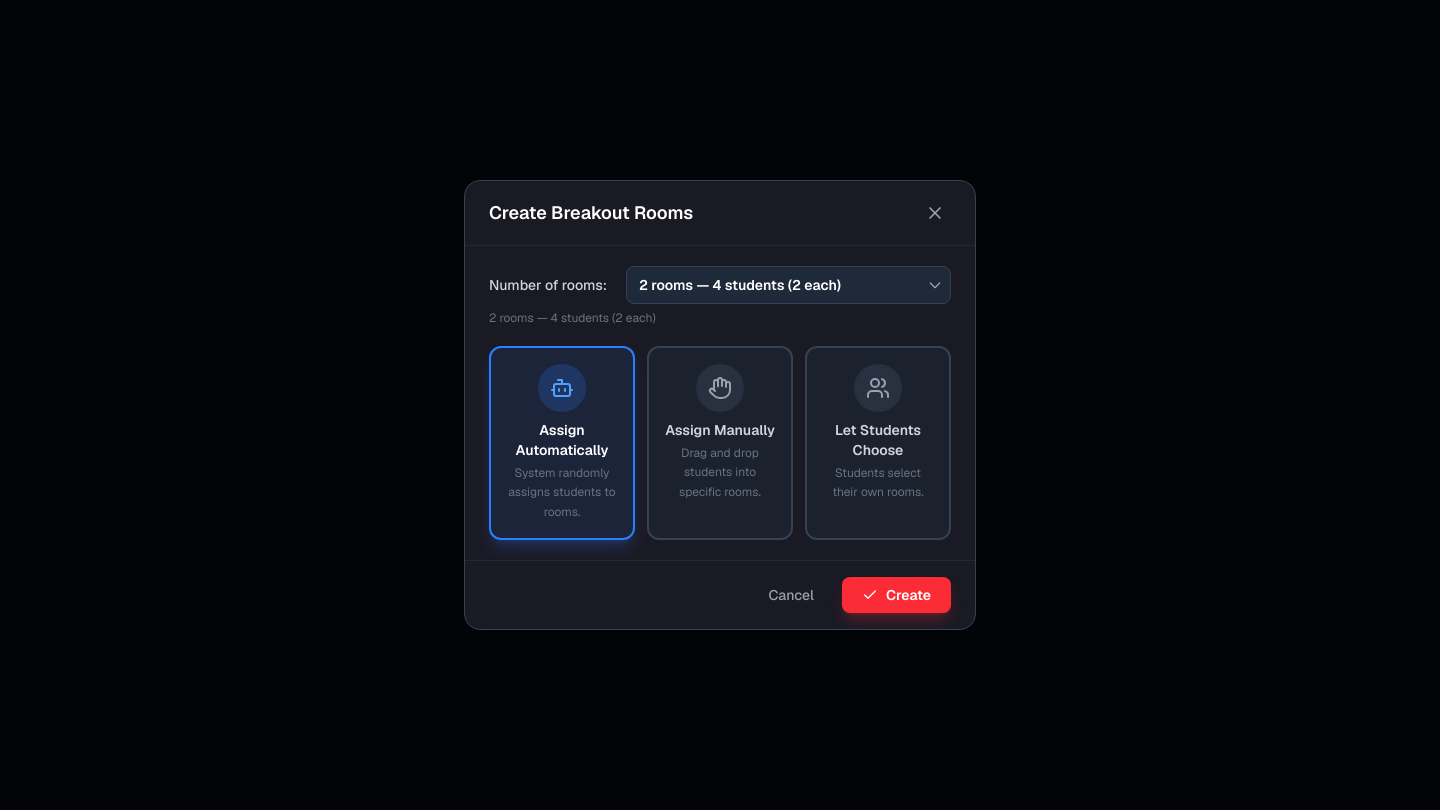
Scenario: CreateBreakoutModal — Number Dropdown (up to 25 rooms) › manual allocation mode also respects the selected dropdown count
This screenshot has width=1440, height=810.
// Select manual mode
Click the button with test id "mode-manual": (720, 443) [647,346,793,540]
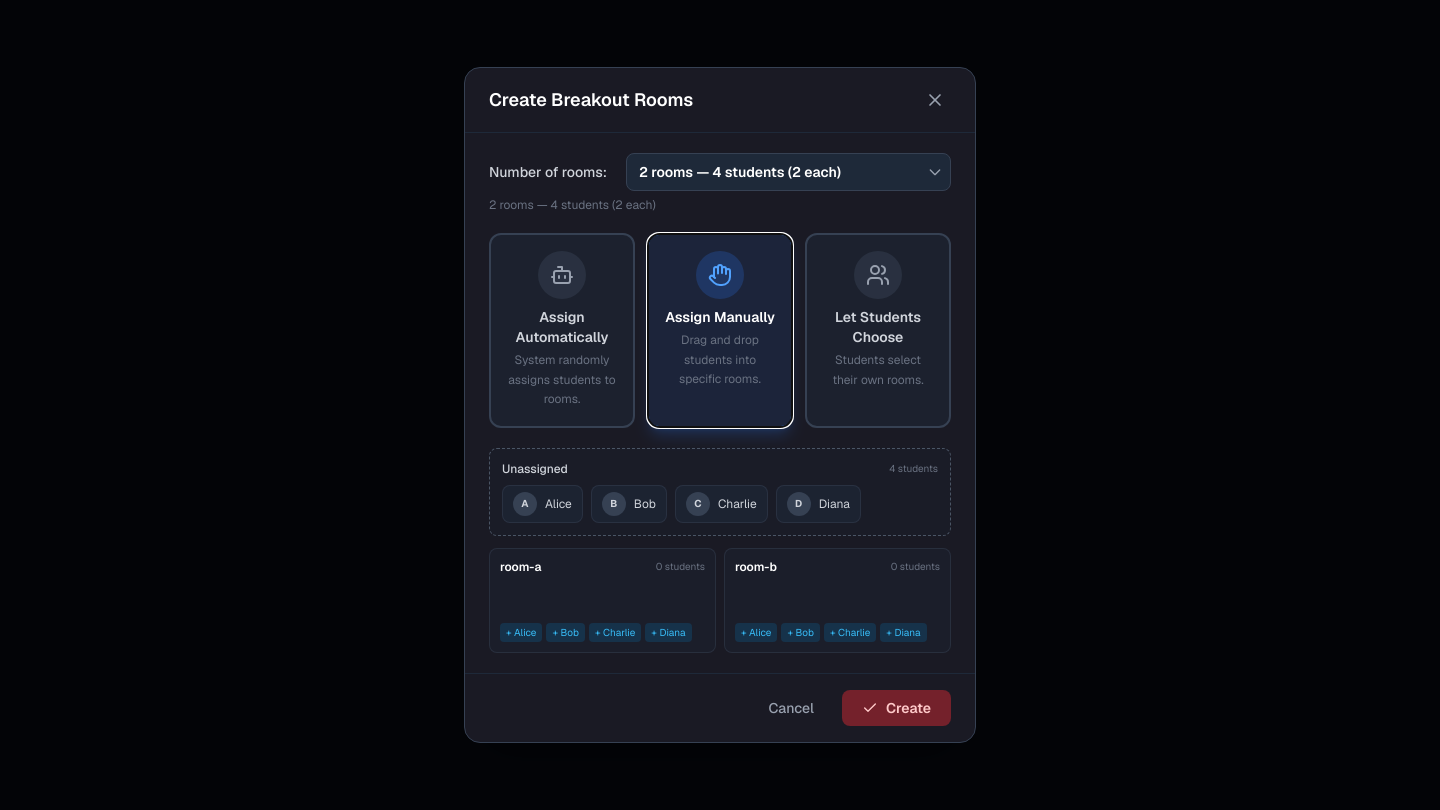
Now the element with test id "manual-unassigned-pool" is shown, box [489,448,951,536]
// Change to 3 rooms
Select "3 rooms — 4 students (1–2 each)" in the dropdown with test id "breakout-room-count": (788, 172) [626,153,951,191]
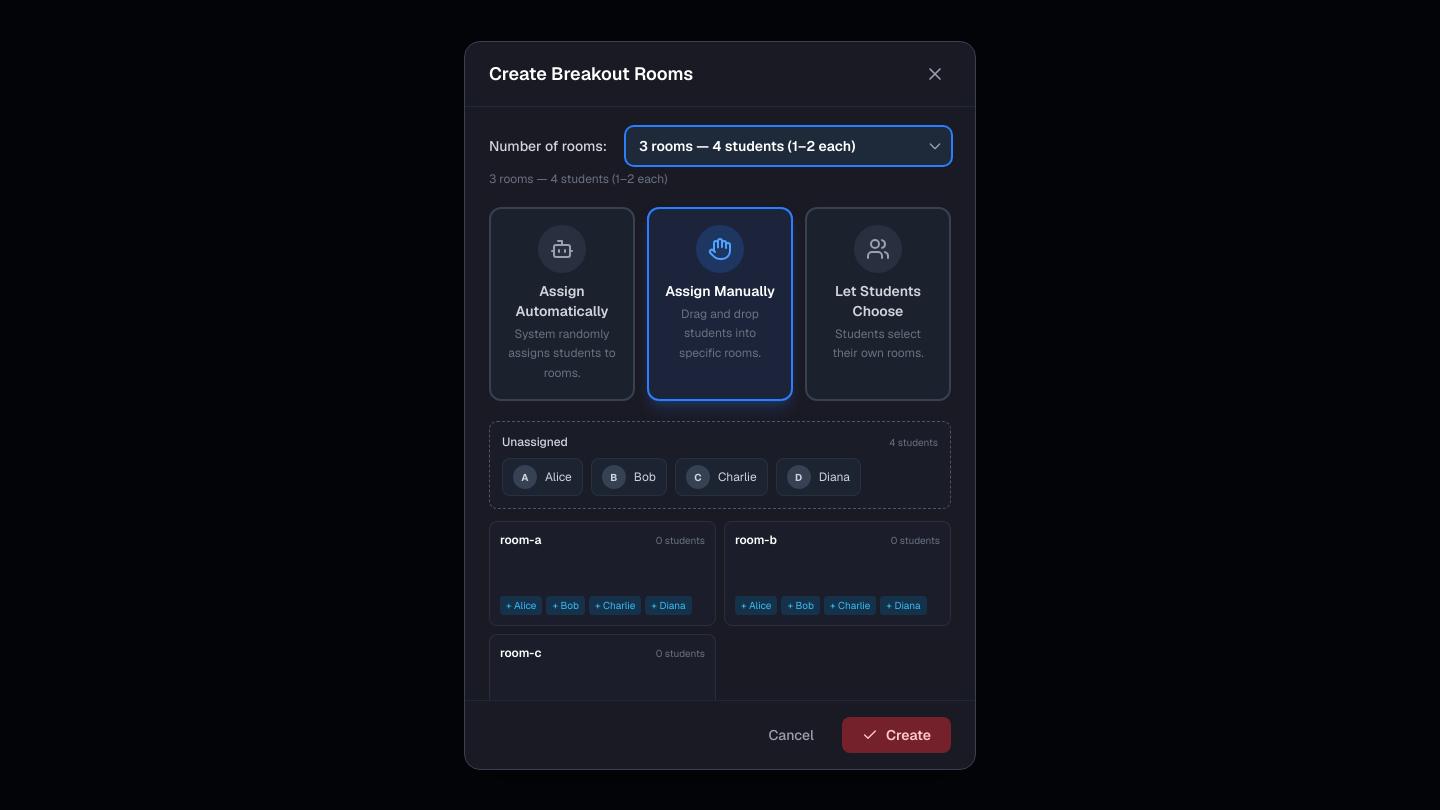
Now the number of elements with test id "manual-room-column" is 3, box [489,521,716,626]; [724,521,951,626]; [489,634,716,700]
Now the text with test id "room-capacity-hint" shows "3", box [489,170,667,186]
